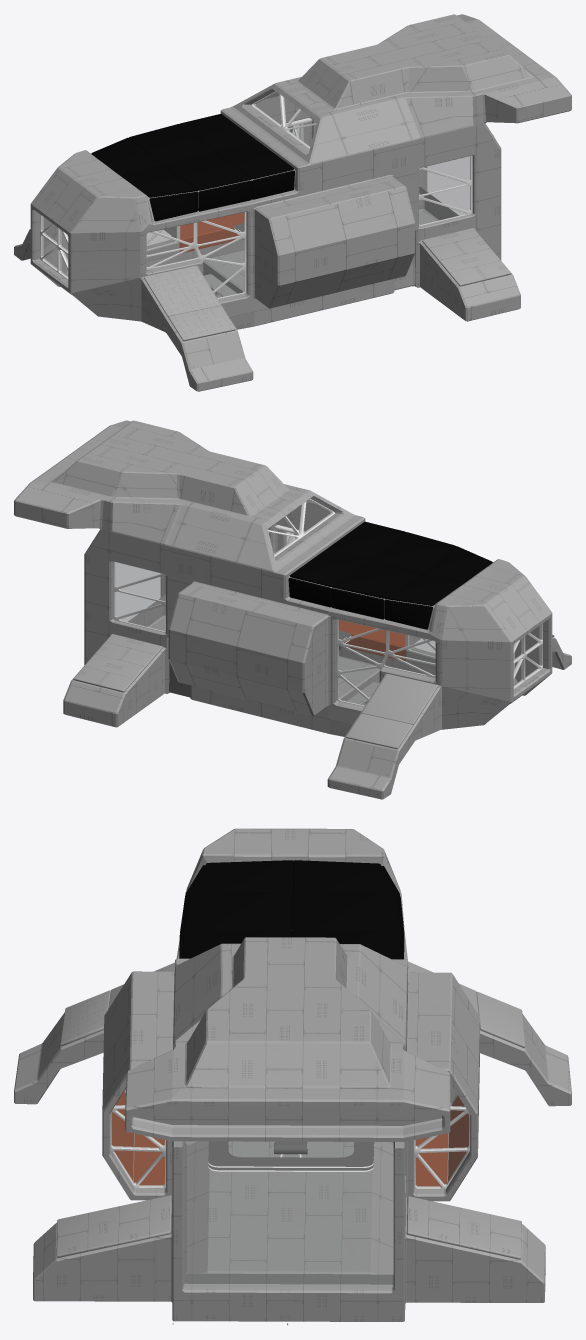
Rendered from spaceshipclear4.glb.
The picture shows the model from 3 angles, top to bottom: view 1: azimuth 30°, elevation 25°; view 2: azimuth 150°, elevation 25°; view 3: azimuth 270°, elevation 25°; orthographic projection. The views are drawn at different scales.
Visible parts, largest first — view 1: hull, hull.013, hull.004, hull.003, object 11, object 12, Plane.001; view 2: hull, hull.013, hull.004, hull.003, object 10, object 12, Plane.001; view 3: hull, Plane.001, hull.013, object 12, hull.004, Plane.002_4, object 10, hull.003, object 11.
Part boxes in pixels (x1,y1,x2,y2): hull: (14,14,571,391); hull.013: (91,114,294,221); hull.004: (42,92,470,297); hull.003: (40,91,472,299); object 11: (144,266,235,341); object 12: (422,228,511,286); Plane.001: (423,135,493,215); hull: (14,420,571,799); hull.013: (288,521,492,629); hull.004: (115,500,540,705); hull.003: (113,498,542,706); object 10: (346,674,438,749); object 12: (73,634,162,692); Plane.001: (92,541,164,621); hull: (14,828,571,1325); Plane.001: (183,1141,393,1286); hull.013: (179,860,404,959); object 12: (56,1195,521,1259); hull.004: (112,1084,468,1186); Plane.002_4: (208,1141,374,1171); object 10: (408,961,525,1047); hull.003: (110,1105,469,1189); object 11: (60,962,174,1046).
Size of the model in its own units: 17.04 by 7 by 11.99.
8 materials, 1 textured.
